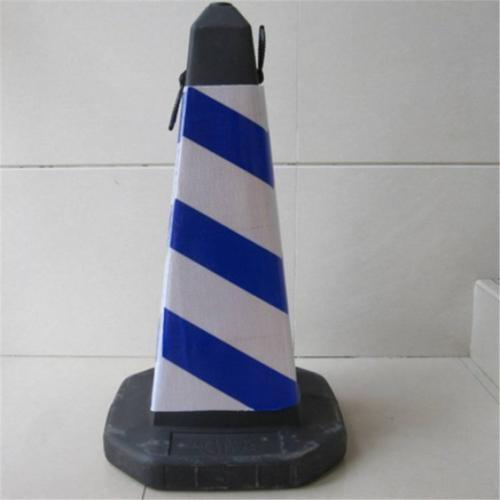cone_barrel: (109, 12, 341, 482)
